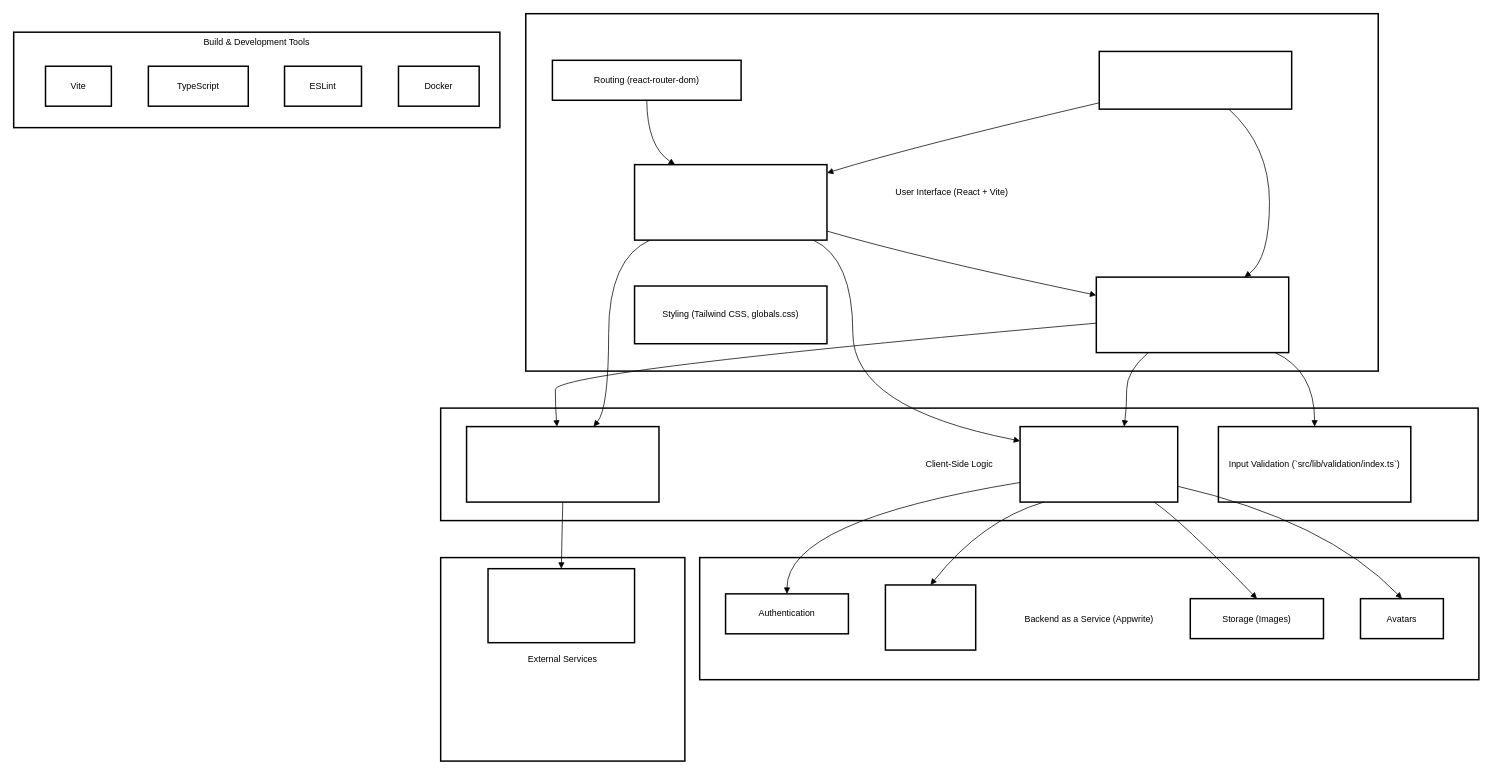
Image size: 1492x774. Some labels were removed from this diagram. Each missing label, with the centre of its shape:
Appwrite API Wrappers (`src/lib/appwrite/api.ts`): (x=1098, y=464)
Database (Users, Posts, Likes, Saves): (x=930, y=617)
OpenStreetMap / Nominatim (Geocoding & Maps): (x=561, y=605)
Pages & Views (e.g., Home, Profile, PostDetails, MapPage): (x=730, y=202)
State Management (React Query, AuthContext): (x=1195, y=80)
UI Components (e.g., PostCard, UserCard, MapMarker, Forms): (x=1192, y=314)
Utility Functions (`src/lib/utils.ts`): (x=562, y=464)
